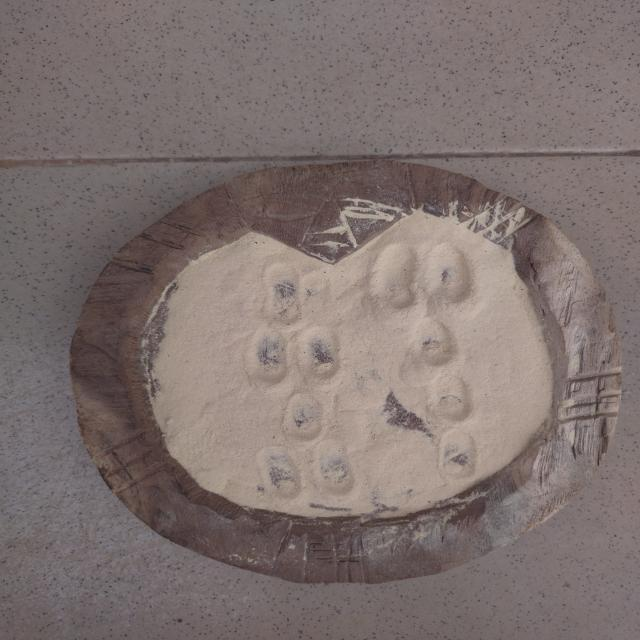double: (358, 235, 481, 322), (248, 438, 365, 504), (242, 324, 343, 395)
single: (252, 257, 310, 333), (423, 374, 488, 428), (434, 426, 487, 490), (406, 318, 462, 372), (282, 386, 326, 444)
